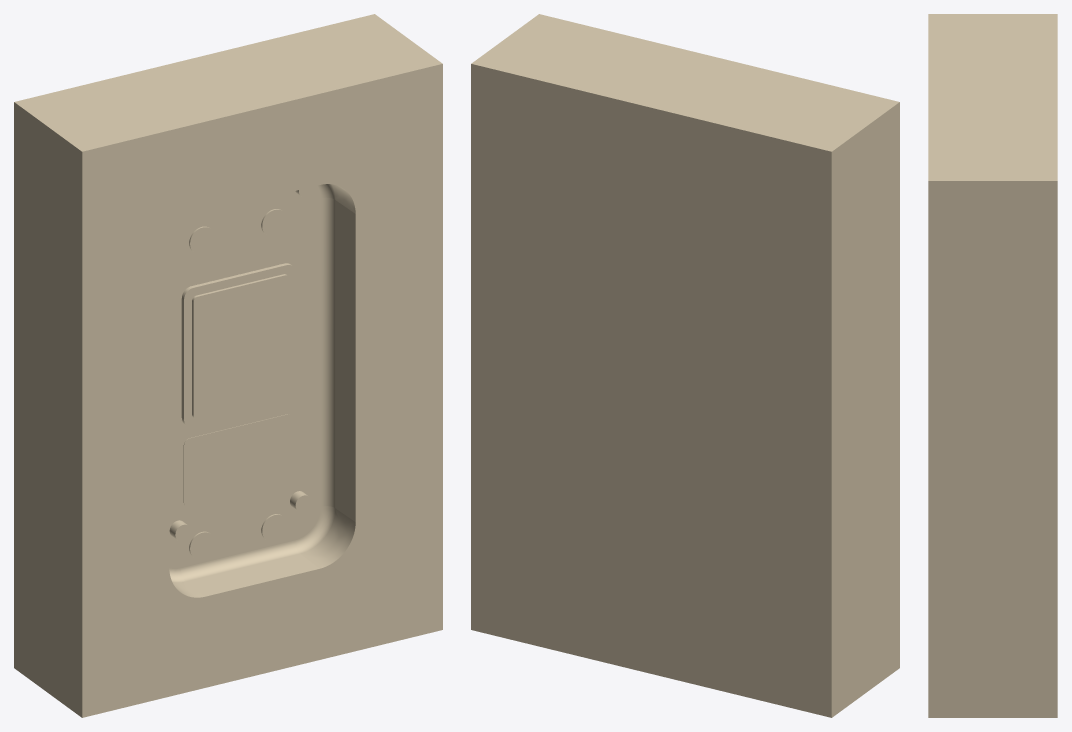
The model's file is .HemoSure_Rear_Housing_CAVITY.step.glb.
3 views of the same model, side by side, from view 1: azimuth 30°, elevation 25°; view 2: azimuth 150°, elevation 25°; view 3: azimuth 270°, elevation 25° (orthographic). The views are drawn at different scales.
Parts seen in each view (by area): view 1: o1; view 2: o1; view 3: o1.
Boxes of the visible parts, box(x1,y1,x2,y2) form: o1: box(14, 14, 442, 717); o1: box(471, 14, 899, 717); o1: box(928, 14, 1057, 717).
Size of the model in its own units: 0.1206 by 0.1809 by 0.0394.
